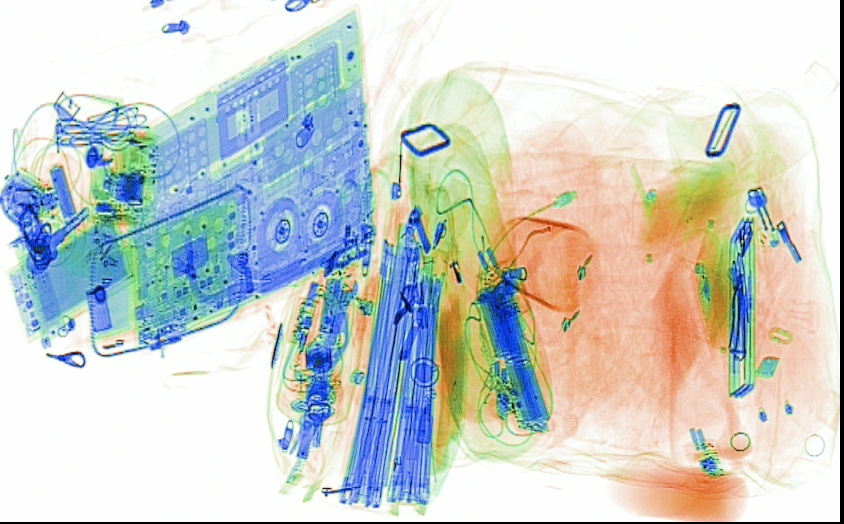powerbank: (471, 253, 552, 436)
